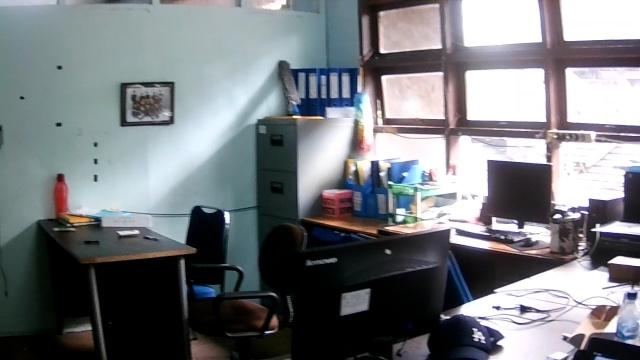Meja: (36, 216, 197, 359)
